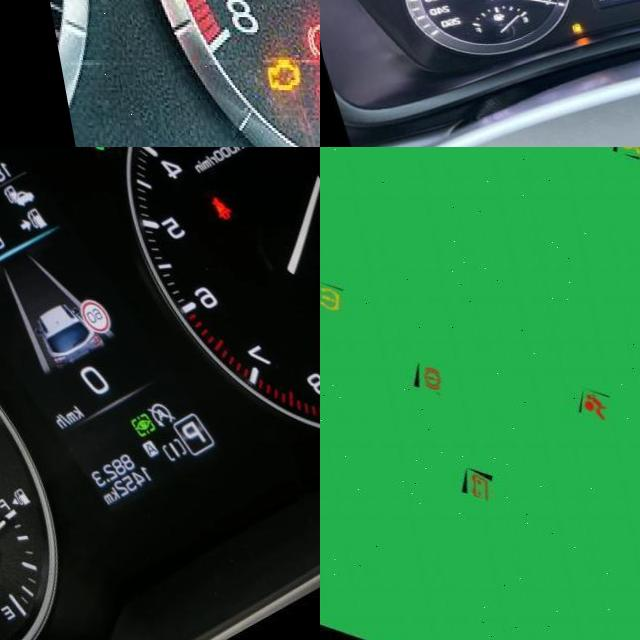Seat Belt: (204, 197, 226, 220)
